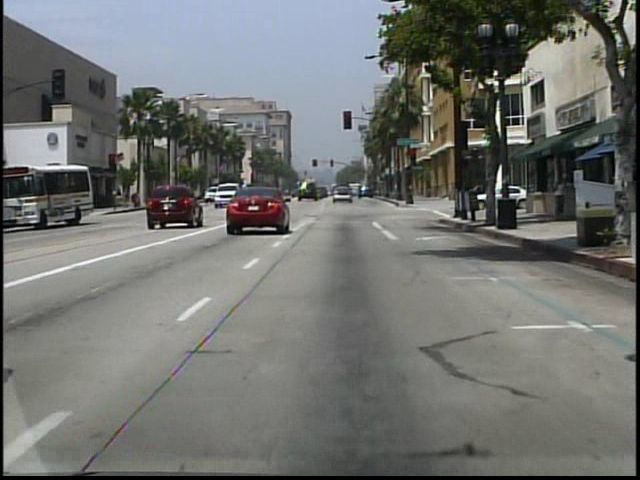person: (549, 169, 569, 222)
